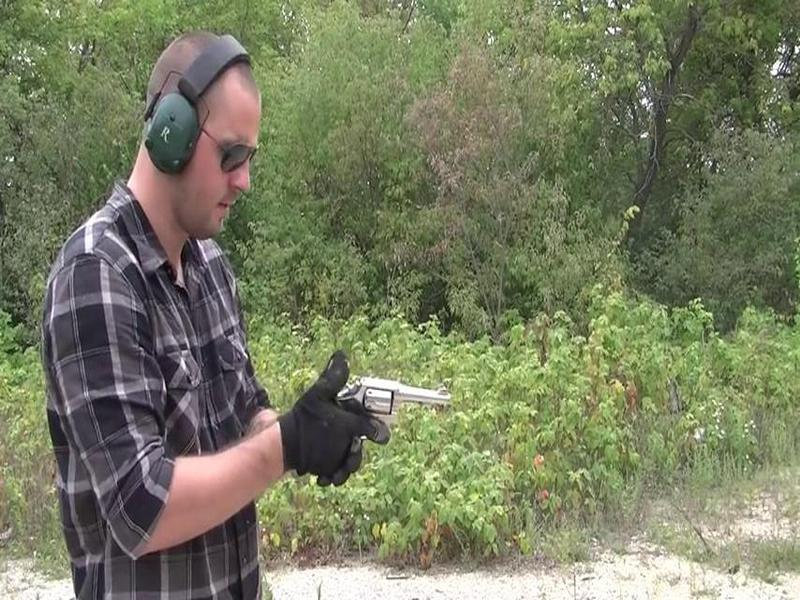Revolver: (328, 344, 452, 453)
